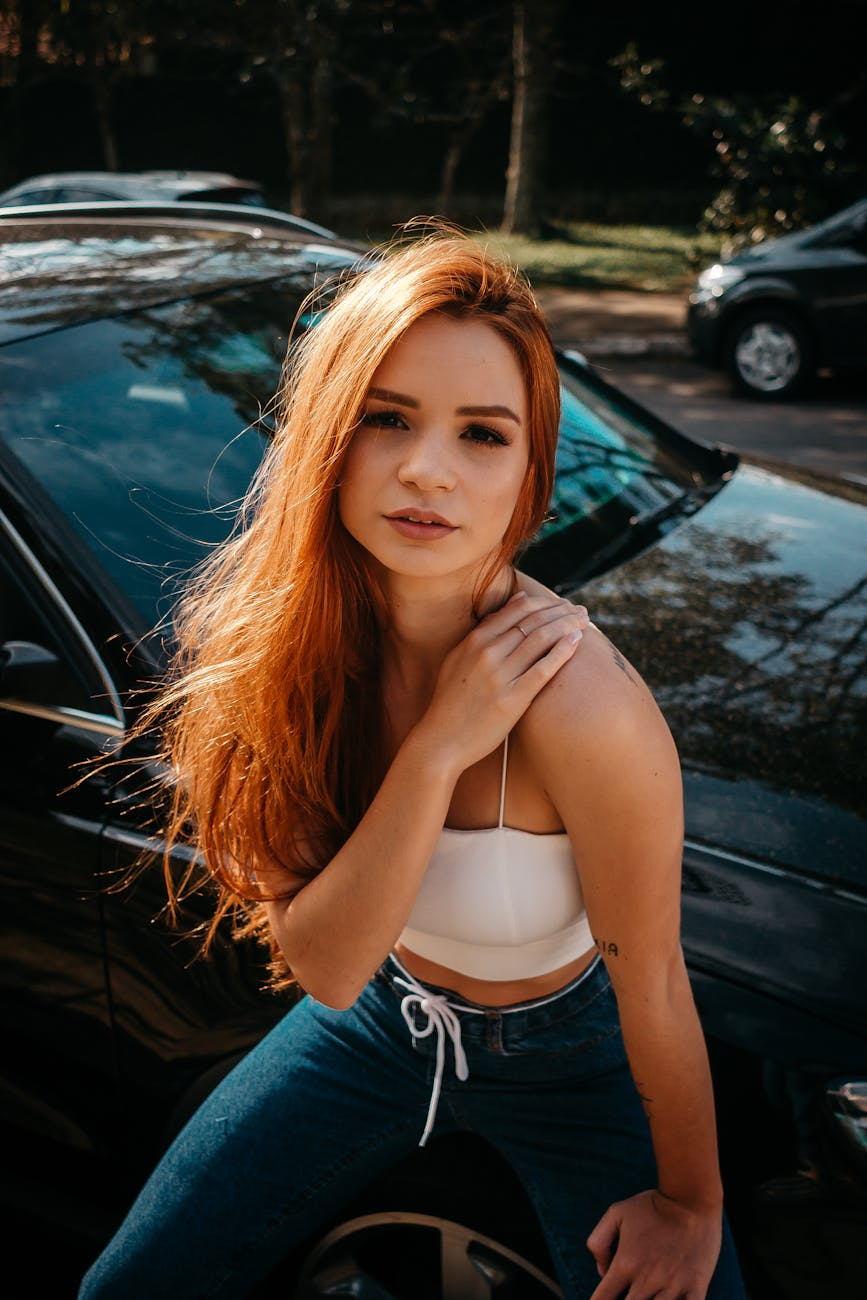crop_top: (241, 698, 661, 988)
